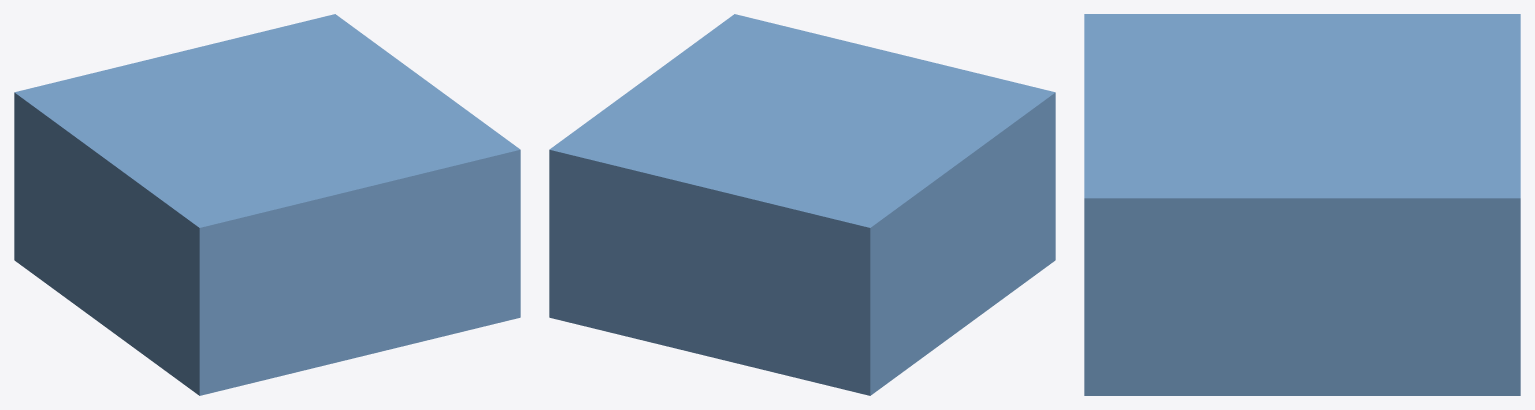
File: half_block.glb
The picture shows the model from 3 angles, left to right: view 1: azimuth 30°, elevation 25°; view 2: azimuth 150°, elevation 25°; view 3: azimuth 270°, elevation 25°; orthographic projection. The views are drawn at different scales.
Parts seen in each view (by area): view 1: half_block; view 2: half_block; view 3: half_block.
Part boxes in pixels (x1,y1,x2,y2): half_block: (14,14,520,395); half_block: (549,14,1055,395); half_block: (1084,14,1520,395).
Bounding box in the file's own units: 1.6 × 0.8 × 1.6.
